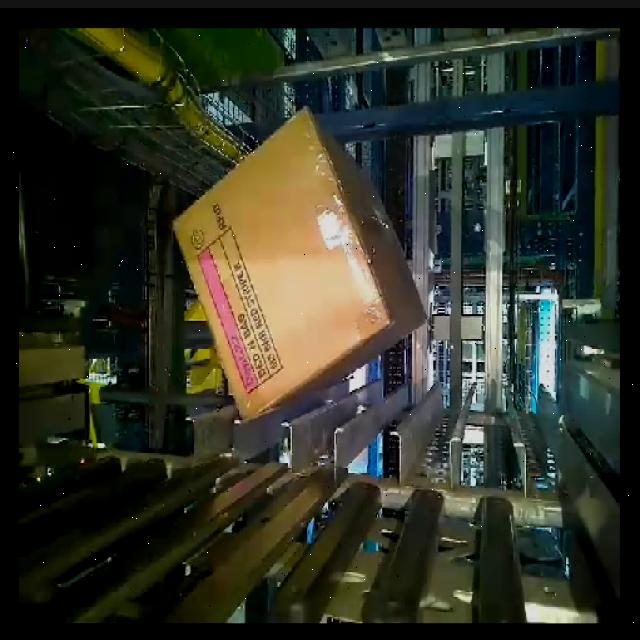box: (147, 103, 409, 425)
